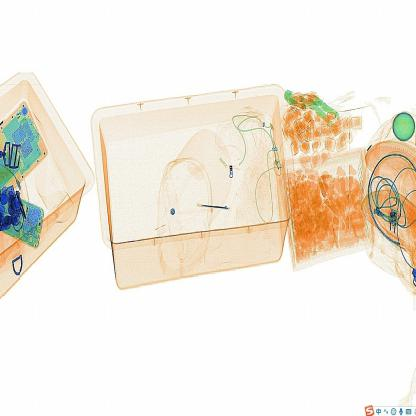wrench: (196, 200, 240, 223)
